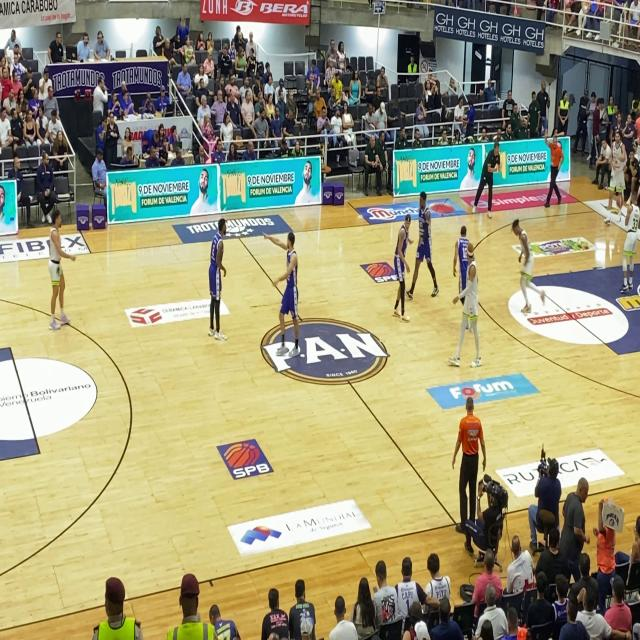referee: (452, 389, 492, 523), (545, 129, 574, 232)
team1: (455, 210, 491, 384), (619, 182, 639, 298), (607, 123, 628, 210)
team2: (274, 217, 308, 368), (200, 213, 230, 336), (411, 184, 439, 307), (387, 206, 413, 320)
